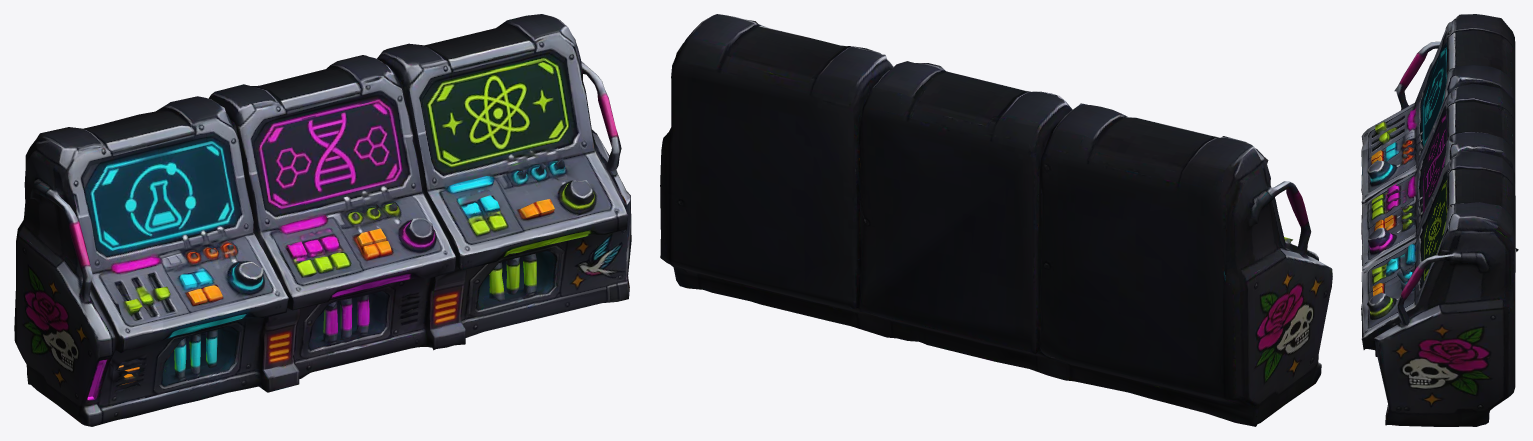
The model's file is GW_D06_lab_console_bank.glb.
3 views of the same model, side by side, from view 1: azimuth 30°, elevation 25°; view 2: azimuth 150°, elevation 25°; view 3: azimuth 270°, elevation 25° (orthographic). The views are drawn at different scales.
Parts seen in each view (by area): view 1: tripo_node_23a04bc5-81b6-4421-afd3-111176bf76ac; view 2: tripo_node_23a04bc5-81b6-4421-afd3-111176bf76ac; view 3: tripo_node_23a04bc5-81b6-4421-afd3-111176bf76ac.
Part boxes in pixels (box(x1,y1,x2,y2)): tripo_node_23a04bc5-81b6-4421-afd3-111176bf76ac: box(14, 14, 631, 426); tripo_node_23a04bc5-81b6-4421-afd3-111176bf76ac: box(660, 14, 1332, 426); tripo_node_23a04bc5-81b6-4421-afd3-111176bf76ac: box(1361, 14, 1518, 426).
Size of the model in its own units: 0.9866 by 0.4296 by 0.3001.
Materials: 1 (1 with a texture image).
